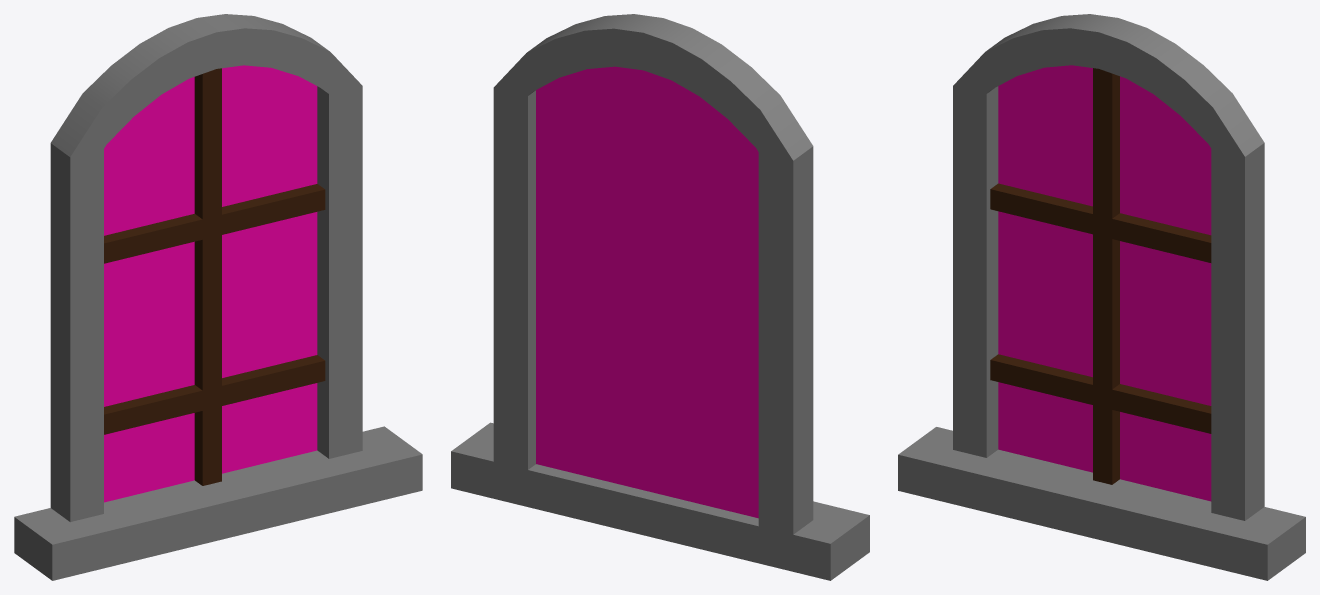
Rendered from fenetre_x.fbx.
3 views of the same model, side by side, from view 1: azimuth 30°, elevation 25°; view 2: azimuth 150°, elevation 25°; view 3: azimuth 330°, elevation 25° (orthographic). The views are drawn at different scales.
Visible parts, largest first — view 1: Box001, Plane001, Object001; view 2: Plane001, Box001; view 3: Box001, Plane001, Object001.
Part boxes in pixels (x1,y1,x2,y2): Box001: (14, 14, 422, 580); Plane001: (104, 65, 317, 502); Object001: (104, 68, 325, 485); Plane001: (536, 66, 758, 518); Box001: (451, 14, 869, 580); Box001: (898, 14, 1305, 580); Plane001: (998, 65, 1211, 501); Object001: (990, 68, 1211, 484).
Bounding box in the file's own units: 3.84 × 4.87 × 0.6885.
